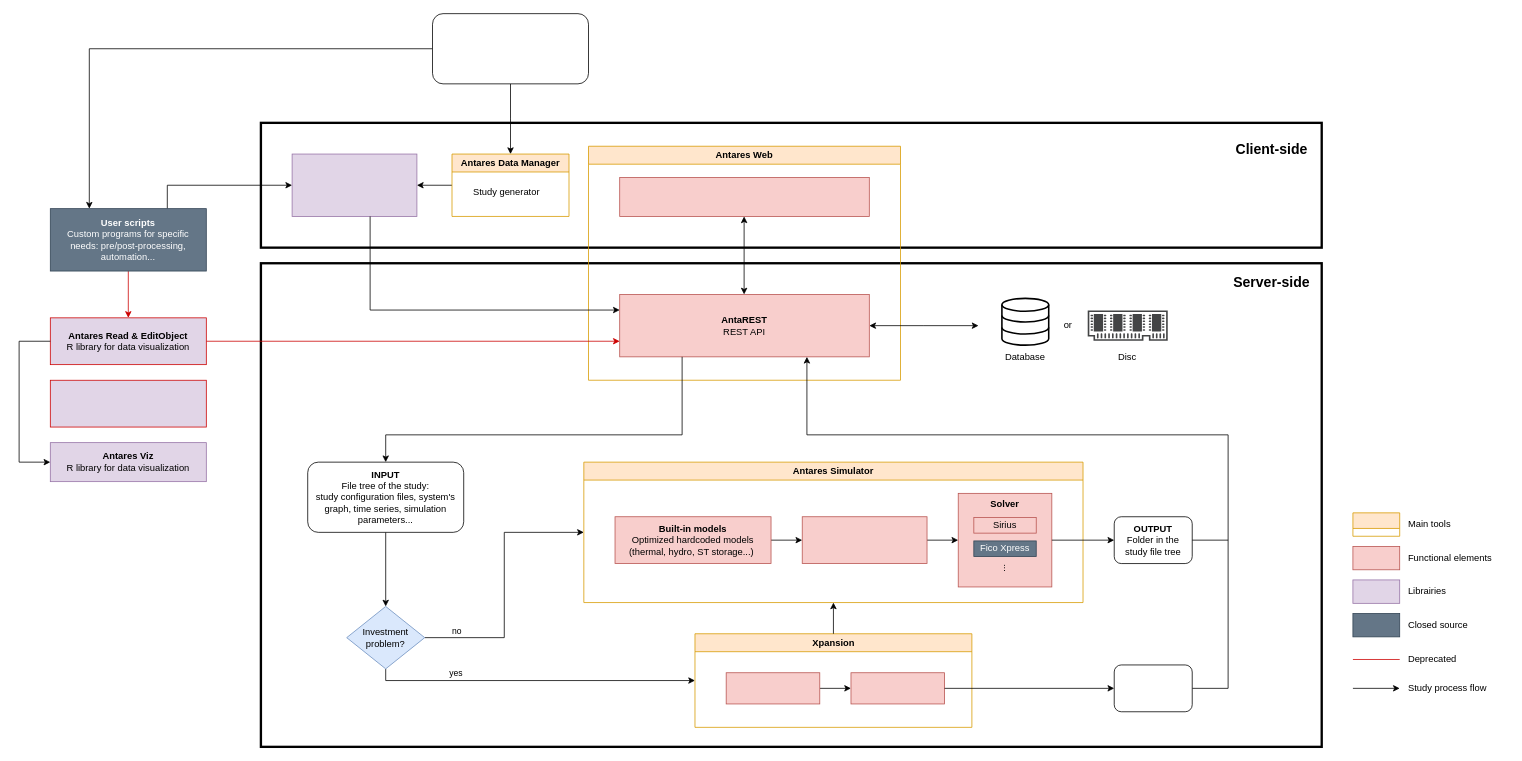
This 1522x761 diagram has some shape labels left out. The centre of each missing label's shape, as x and y in pixels:
"Antares Craft High-level python library for interacting with Antares studies" belongs at (x=354, y=184).
"Antares water values R library for computing Bellman water values" belongs at (x=128, y=403).
"Benders solver" belongs at (x=897, y=688).
"Construction of optimization problem with OR-Tools" belongs at (x=864, y=540).
"Master problem formulation" belongs at (x=772, y=688).
"OUTPUT Invest output" belongs at (x=1152, y=688).
"RAW INPUT DATA Weather forcast, PEMMDB, ENTSOE data and other data" belongs at (x=510, y=48).
"User interface Web browser application" belongs at (x=744, y=196).
